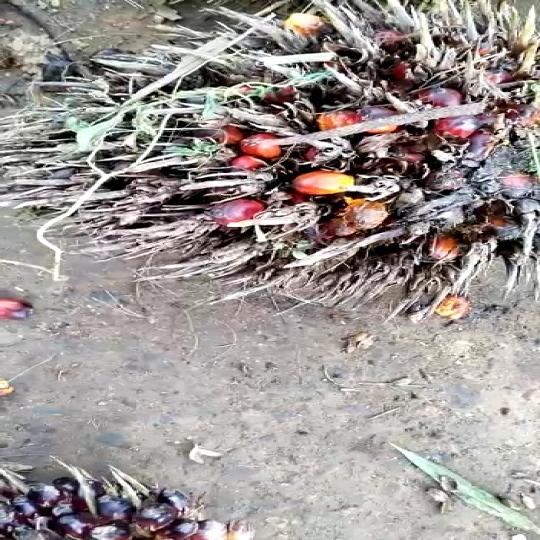terlalu masak: (0, 0, 540, 321)
